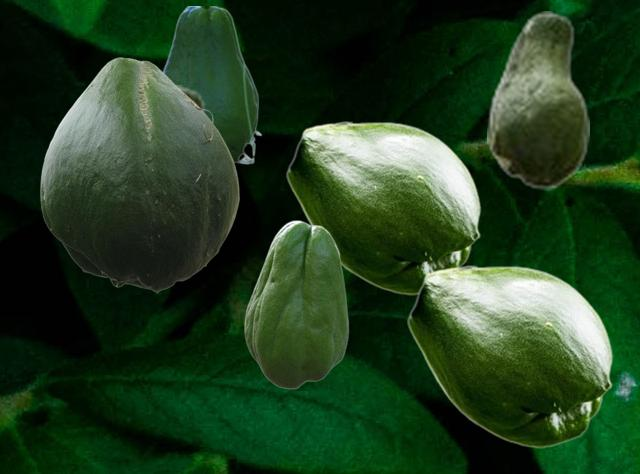sayote: (40, 57, 238, 292), (407, 265, 612, 447), (286, 121, 480, 294), (487, 11, 588, 189), (244, 220, 348, 388), (162, 6, 261, 164), (177, 85, 219, 276)
